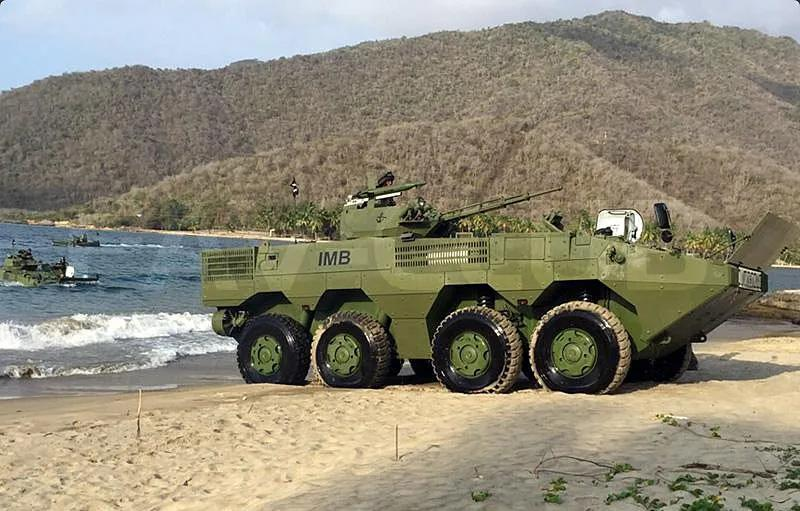MIL_IFV: (200, 181, 793, 402)
